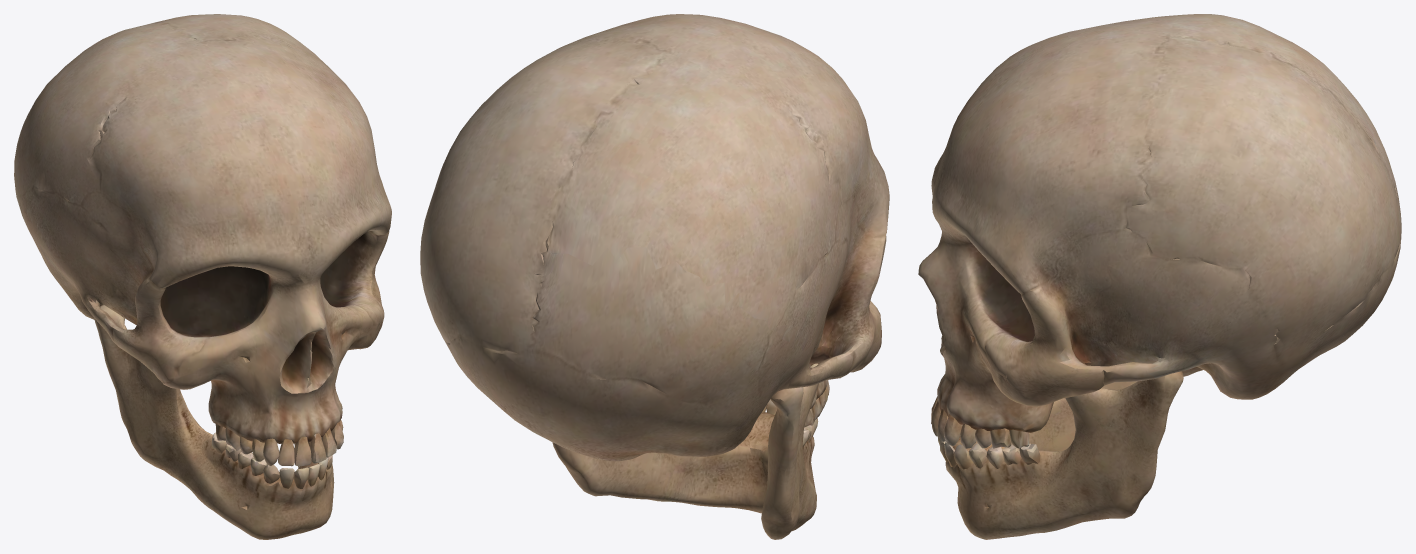
Rendered from skull2.glb.
3 views of the same model, side by side, from view 1: azimuth 30°, elevation 25°; view 2: azimuth 150°, elevation 25°; view 3: azimuth 270°, elevation 25° (orthographic). The views are drawn at different scales.
Visible parts, largest first — view 1: CANEO_decimated_100K; view 2: CANEO_decimated_100K; view 3: CANEO_decimated_100K.
Boxes of the visible parts, left/top/right/bottom form: CANEO_decimated_100K: left=14, top=14, right=391, bottom=539; CANEO_decimated_100K: left=420, top=14, right=889, bottom=539; CANEO_decimated_100K: left=918, top=14, right=1401, bottom=539.
Size of the model in its own units: 120 by 174 by 157.
Materials: 1 (1 with a texture image).
